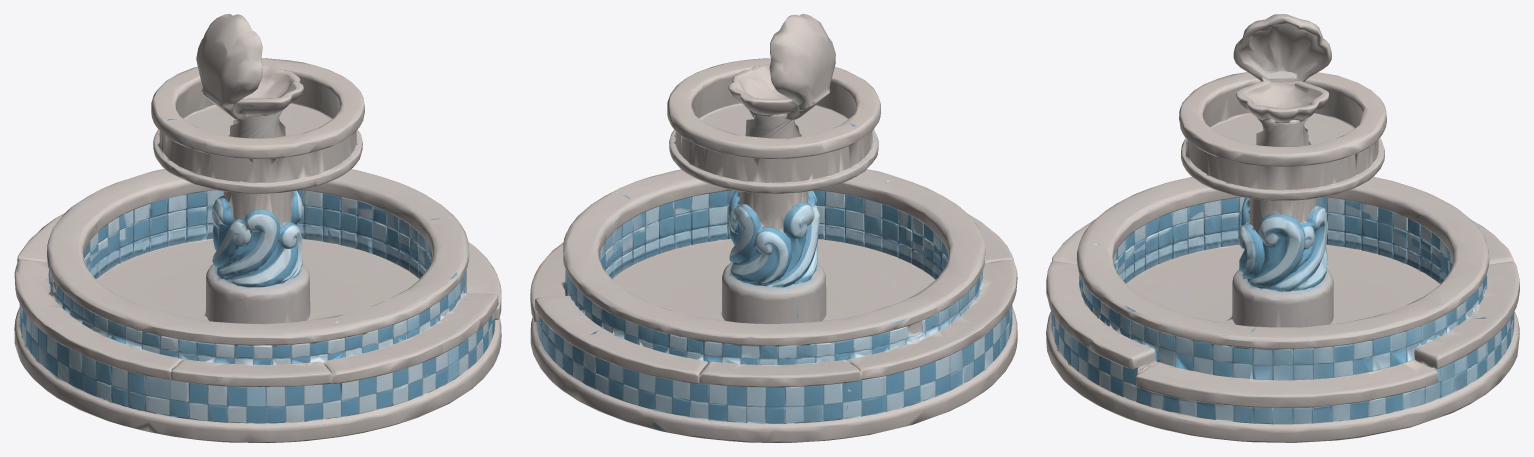
Rendered from fountain.glb.
3 renders of one model, left to right at view 1: azimuth 30°, elevation 25°; view 2: azimuth 150°, elevation 25°; view 3: azimuth 270°, elevation 25°, orthographic. The views are drawn at different scales.
Size of the model in its own units: 1.9 by 1.42 by 1.9.
Materials: 1 (1 with a texture image).
